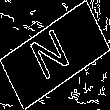N_SE: (30, 23, 80, 87)
